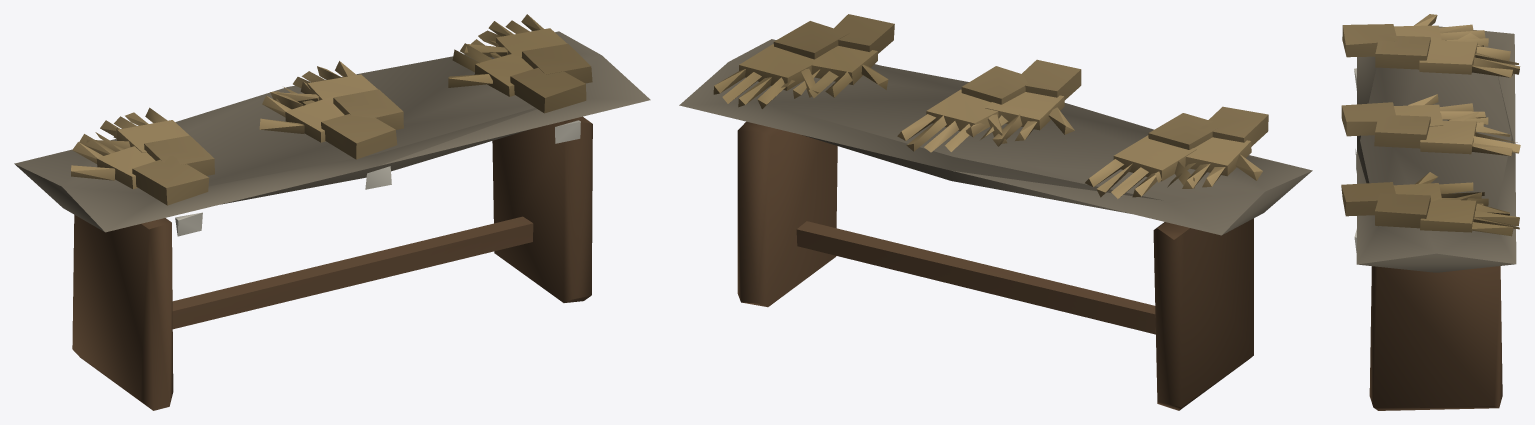
File: glove_bench_c_lod1.glb
3 views of the same model, side by side, from view 1: azimuth 30°, elevation 25°; view 2: azimuth 150°, elevation 25°; view 3: azimuth 270°, elevation 25° (orthographic). The views are drawn at different scales.
Visible parts, largest first — view 1: Surface.001; view 2: Surface.001; view 3: Surface.001.
Part boxes in pixels (box(x1,y1,x2,y2)): Surface.001: box(14, 14, 650, 410); Surface.001: box(679, 14, 1312, 410); Surface.001: box(1341, 14, 1520, 410).
Size of the model in its own units: 1.3 by 0.5365 by 0.4312.
